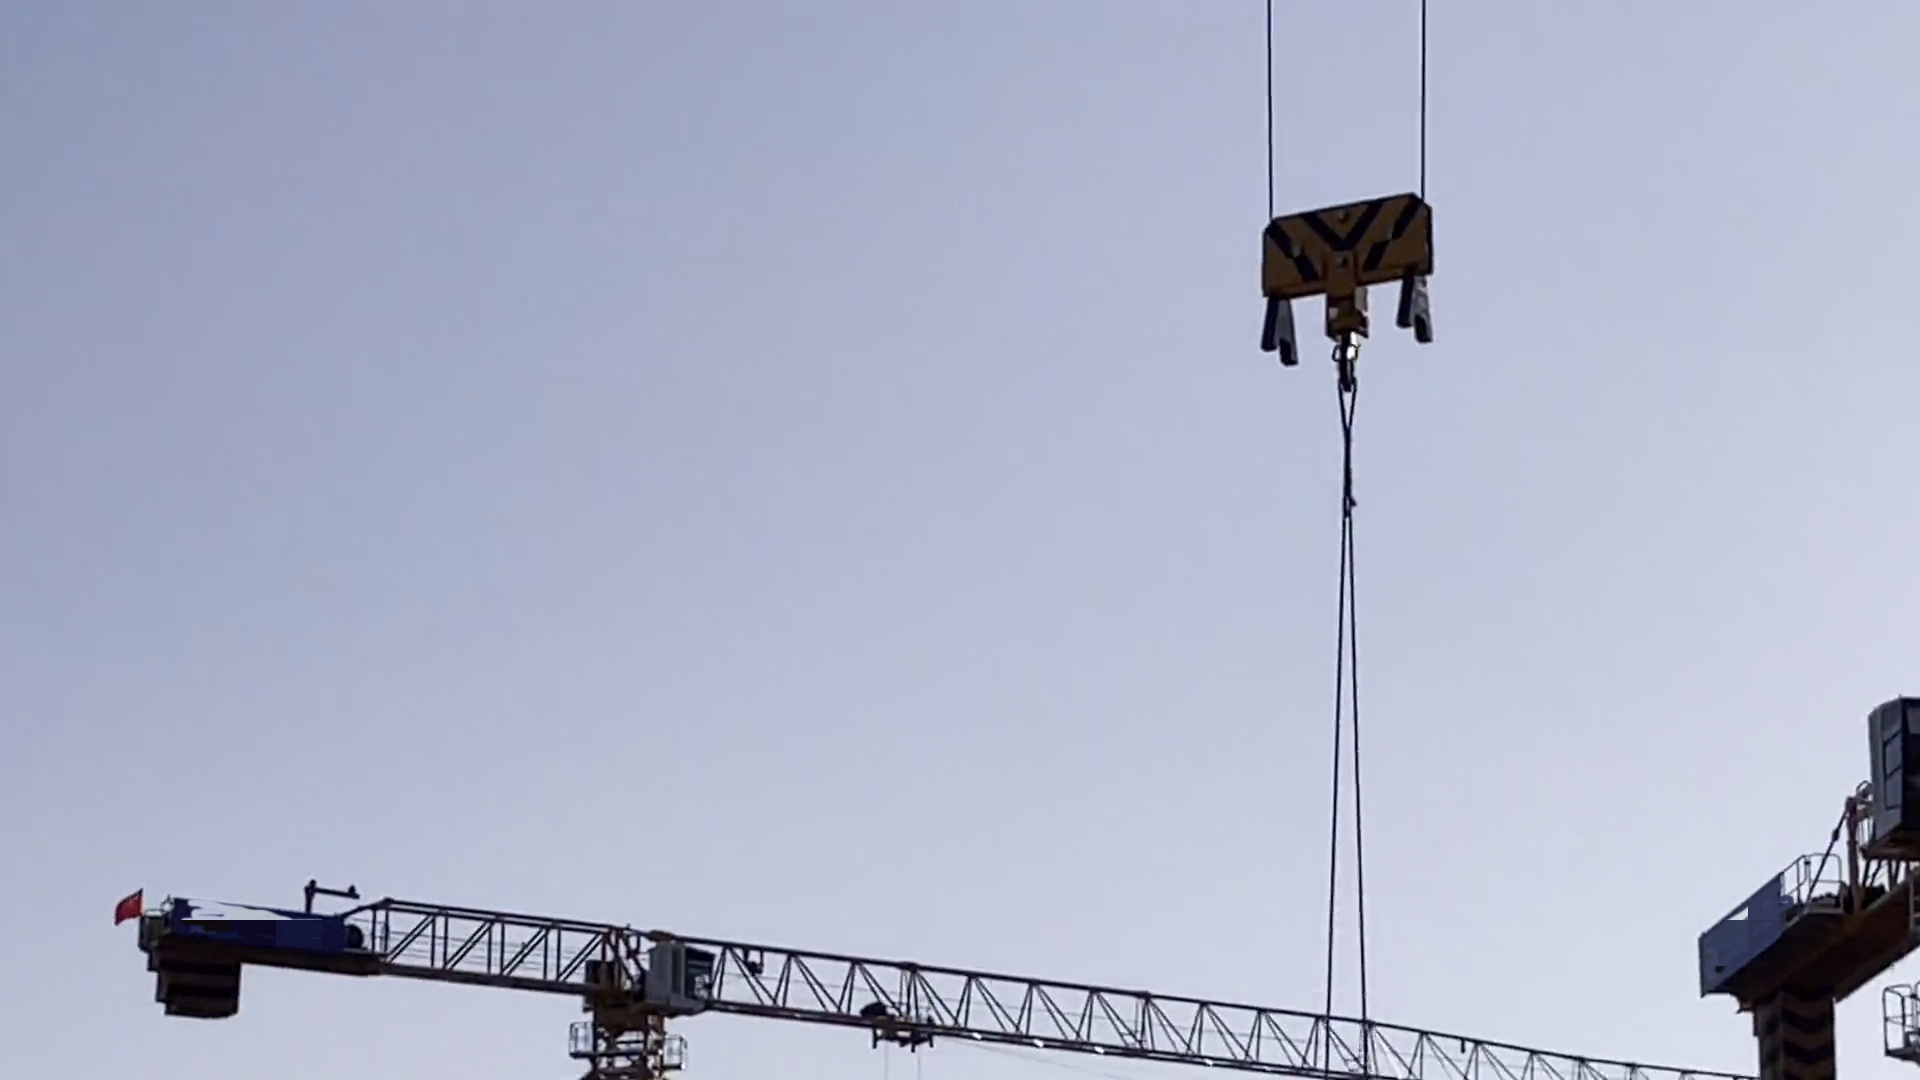hook: (1253, 191, 1433, 394)
